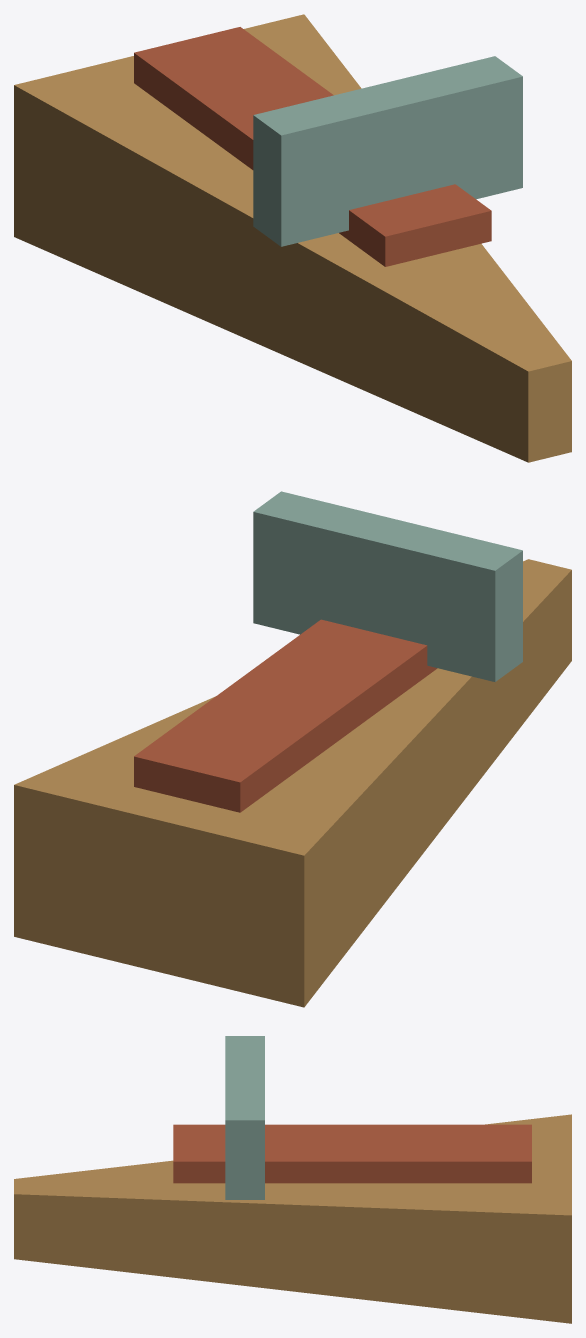
The model's file is speedboat.glb.
3 renders of one model, top to bottom at view 1: azimuth 30°, elevation 25°; view 2: azimuth 150°, elevation 25°; view 3: azimuth 270°, elevation 25°, orthographic. The views are drawn at different scales.
Visible parts, largest first — view 1: Hull, Screen, Stripe; view 2: Hull, Screen, Stripe; view 3: Hull, Stripe, Screen.
Boxes of the visible parts, box(x1,y1,x2,y2) form: Hull: box(14, 14, 571, 462); Screen: box(253, 56, 522, 246); Stripe: box(134, 27, 491, 266); Hull: box(14, 559, 571, 1007); Screen: box(253, 491, 522, 681); Stripe: box(134, 619, 437, 812); Hull: box(14, 1114, 571, 1323); Stripe: box(173, 1124, 531, 1183); Screen: box(225, 1036, 264, 1199).
Bounding box in the file's own units: 0.6 × 0.54 × 1.4.
